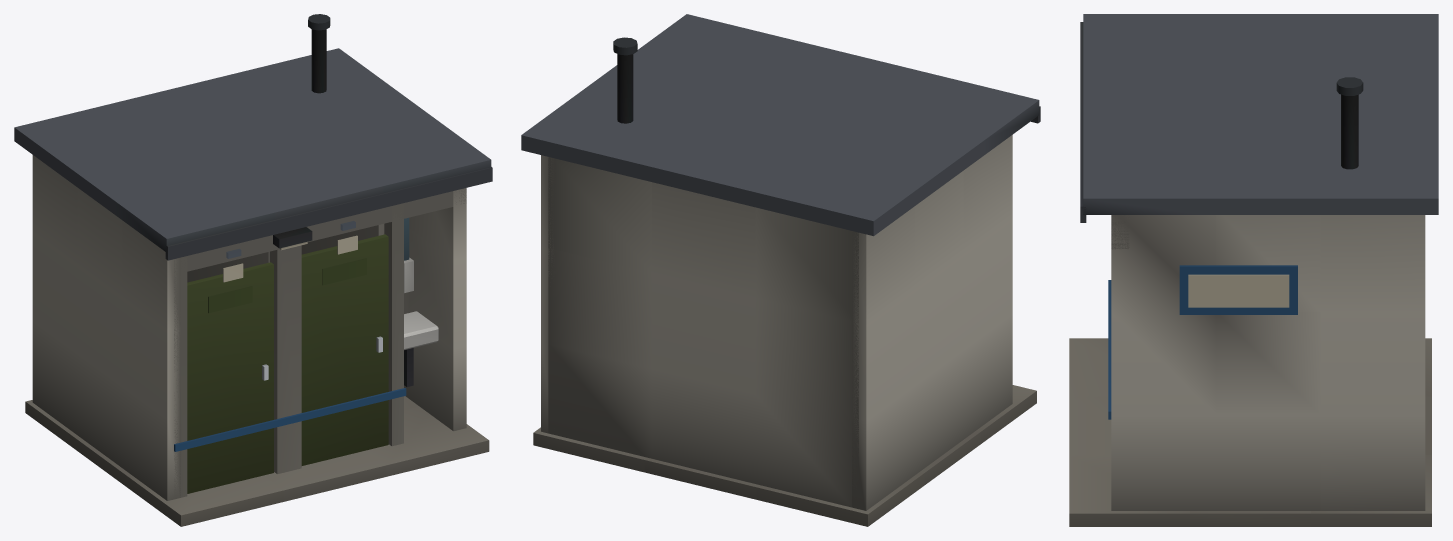
File: facilities.glb
3 views of the same model, side by side, from view 1: azimuth 30°, elevation 25°; view 2: azimuth 150°, elevation 25°; view 3: azimuth 270°, elevation 25° (orthographic). The views are drawn at different scales.
Parts seen in each view (by area): view 1: fac_toilet_block_mesh, door_2, door_1; view 2: fac_toilet_block_mesh; view 3: fac_toilet_block_mesh.
Boxes of the visible parts, x1=… form: fac_toilet_block_mesh: x1=14, y1=14, x2=492, y2=526; door_2: x1=301, y1=234, x2=388, y2=465; door_1: x1=187, y1=262, x2=273, y2=493; fac_toilet_block_mesh: x1=521, y1=14, x2=1040, y2=526; fac_toilet_block_mesh: x1=1069, y1=14, x2=1438, y2=526.
Size of the model in its own units: 2.95 by 3.1 by 2.49.
